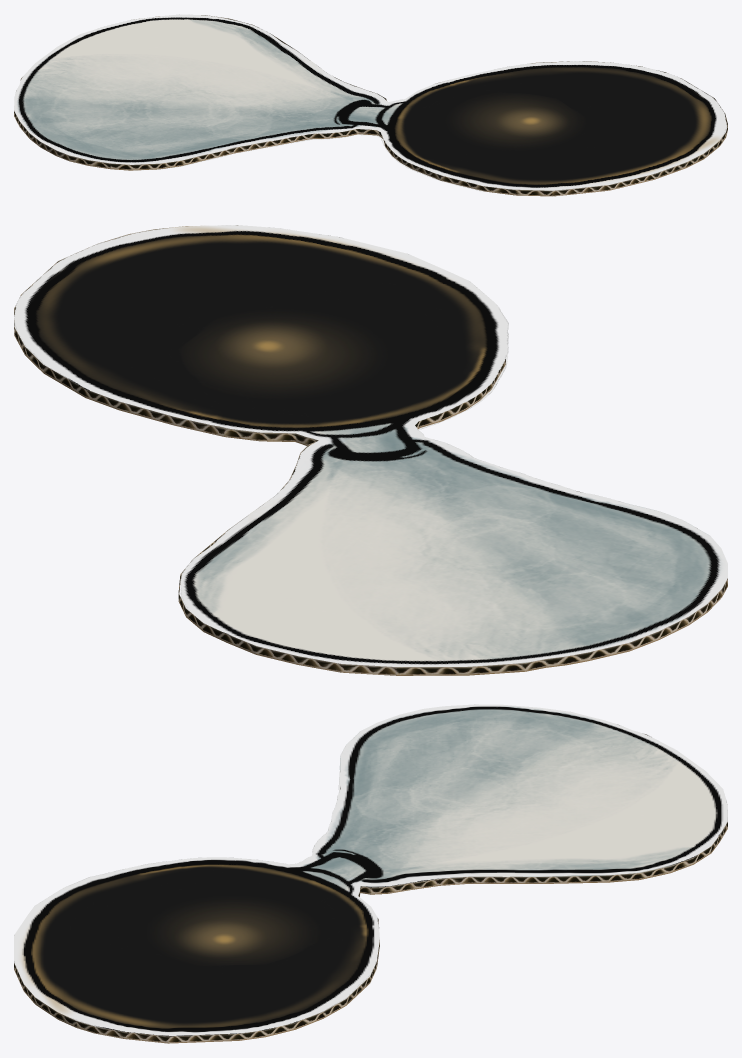
File: hornMute.fbx
The picture shows the model from 3 angles, top to bottom: view 1: azimuth 30°, elevation 25°; view 2: azimuth 150°, elevation 25°; view 3: azimuth 270°, elevation 25°; orthographic projection. The views are drawn at different scales.
Visible parts, largest first — view 1: Plane; view 2: Plane; view 3: Plane.
Boxes of the visible parts, left/top/right/bottom form: Plane: left=14, top=14, right=727, bottom=196; Plane: left=14, top=225, right=727, bottom=675; Plane: left=14, top=704, right=727, bottom=1043.
Size of the model in its own units: 4.98 by 0.05 by 4.53.
